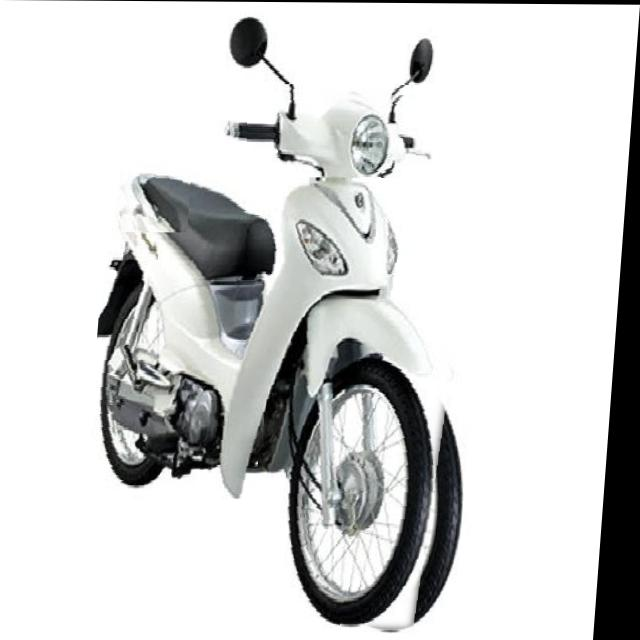All: (86, 83, 496, 635)
Head: (227, 88, 439, 178)
Tail: (121, 162, 195, 233)
